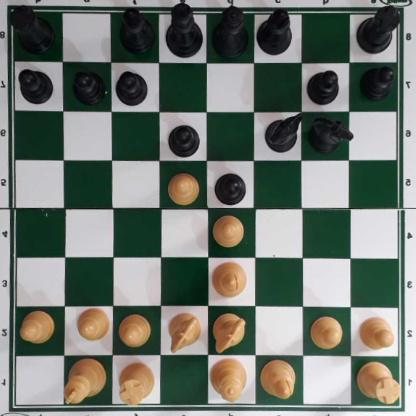black-bishop: (119, 7, 156, 54), (257, 5, 293, 53)
black-king: (165, 1, 201, 59)
black-knight: (310, 115, 350, 153), (266, 112, 304, 150)
black-pawn: (360, 65, 397, 101), (19, 67, 54, 104), (167, 120, 201, 156), (73, 67, 105, 103), (309, 67, 340, 104), (214, 171, 246, 205), (117, 71, 148, 105)
black-queen: (211, 5, 250, 56)
black-rook: (355, 3, 402, 55), (13, 6, 56, 53)
white-bishop: (262, 358, 297, 400), (212, 259, 247, 296)
white-king: (65, 357, 106, 405)
white-knight: (168, 312, 202, 351), (212, 314, 246, 352)
white-pawn: (358, 315, 397, 349), (20, 309, 56, 342), (310, 315, 344, 348), (77, 306, 109, 341), (167, 171, 201, 203), (213, 212, 245, 246), (119, 313, 151, 346)
white-queen: (212, 355, 247, 405)
white-rook: (357, 360, 402, 403), (118, 363, 155, 404)
